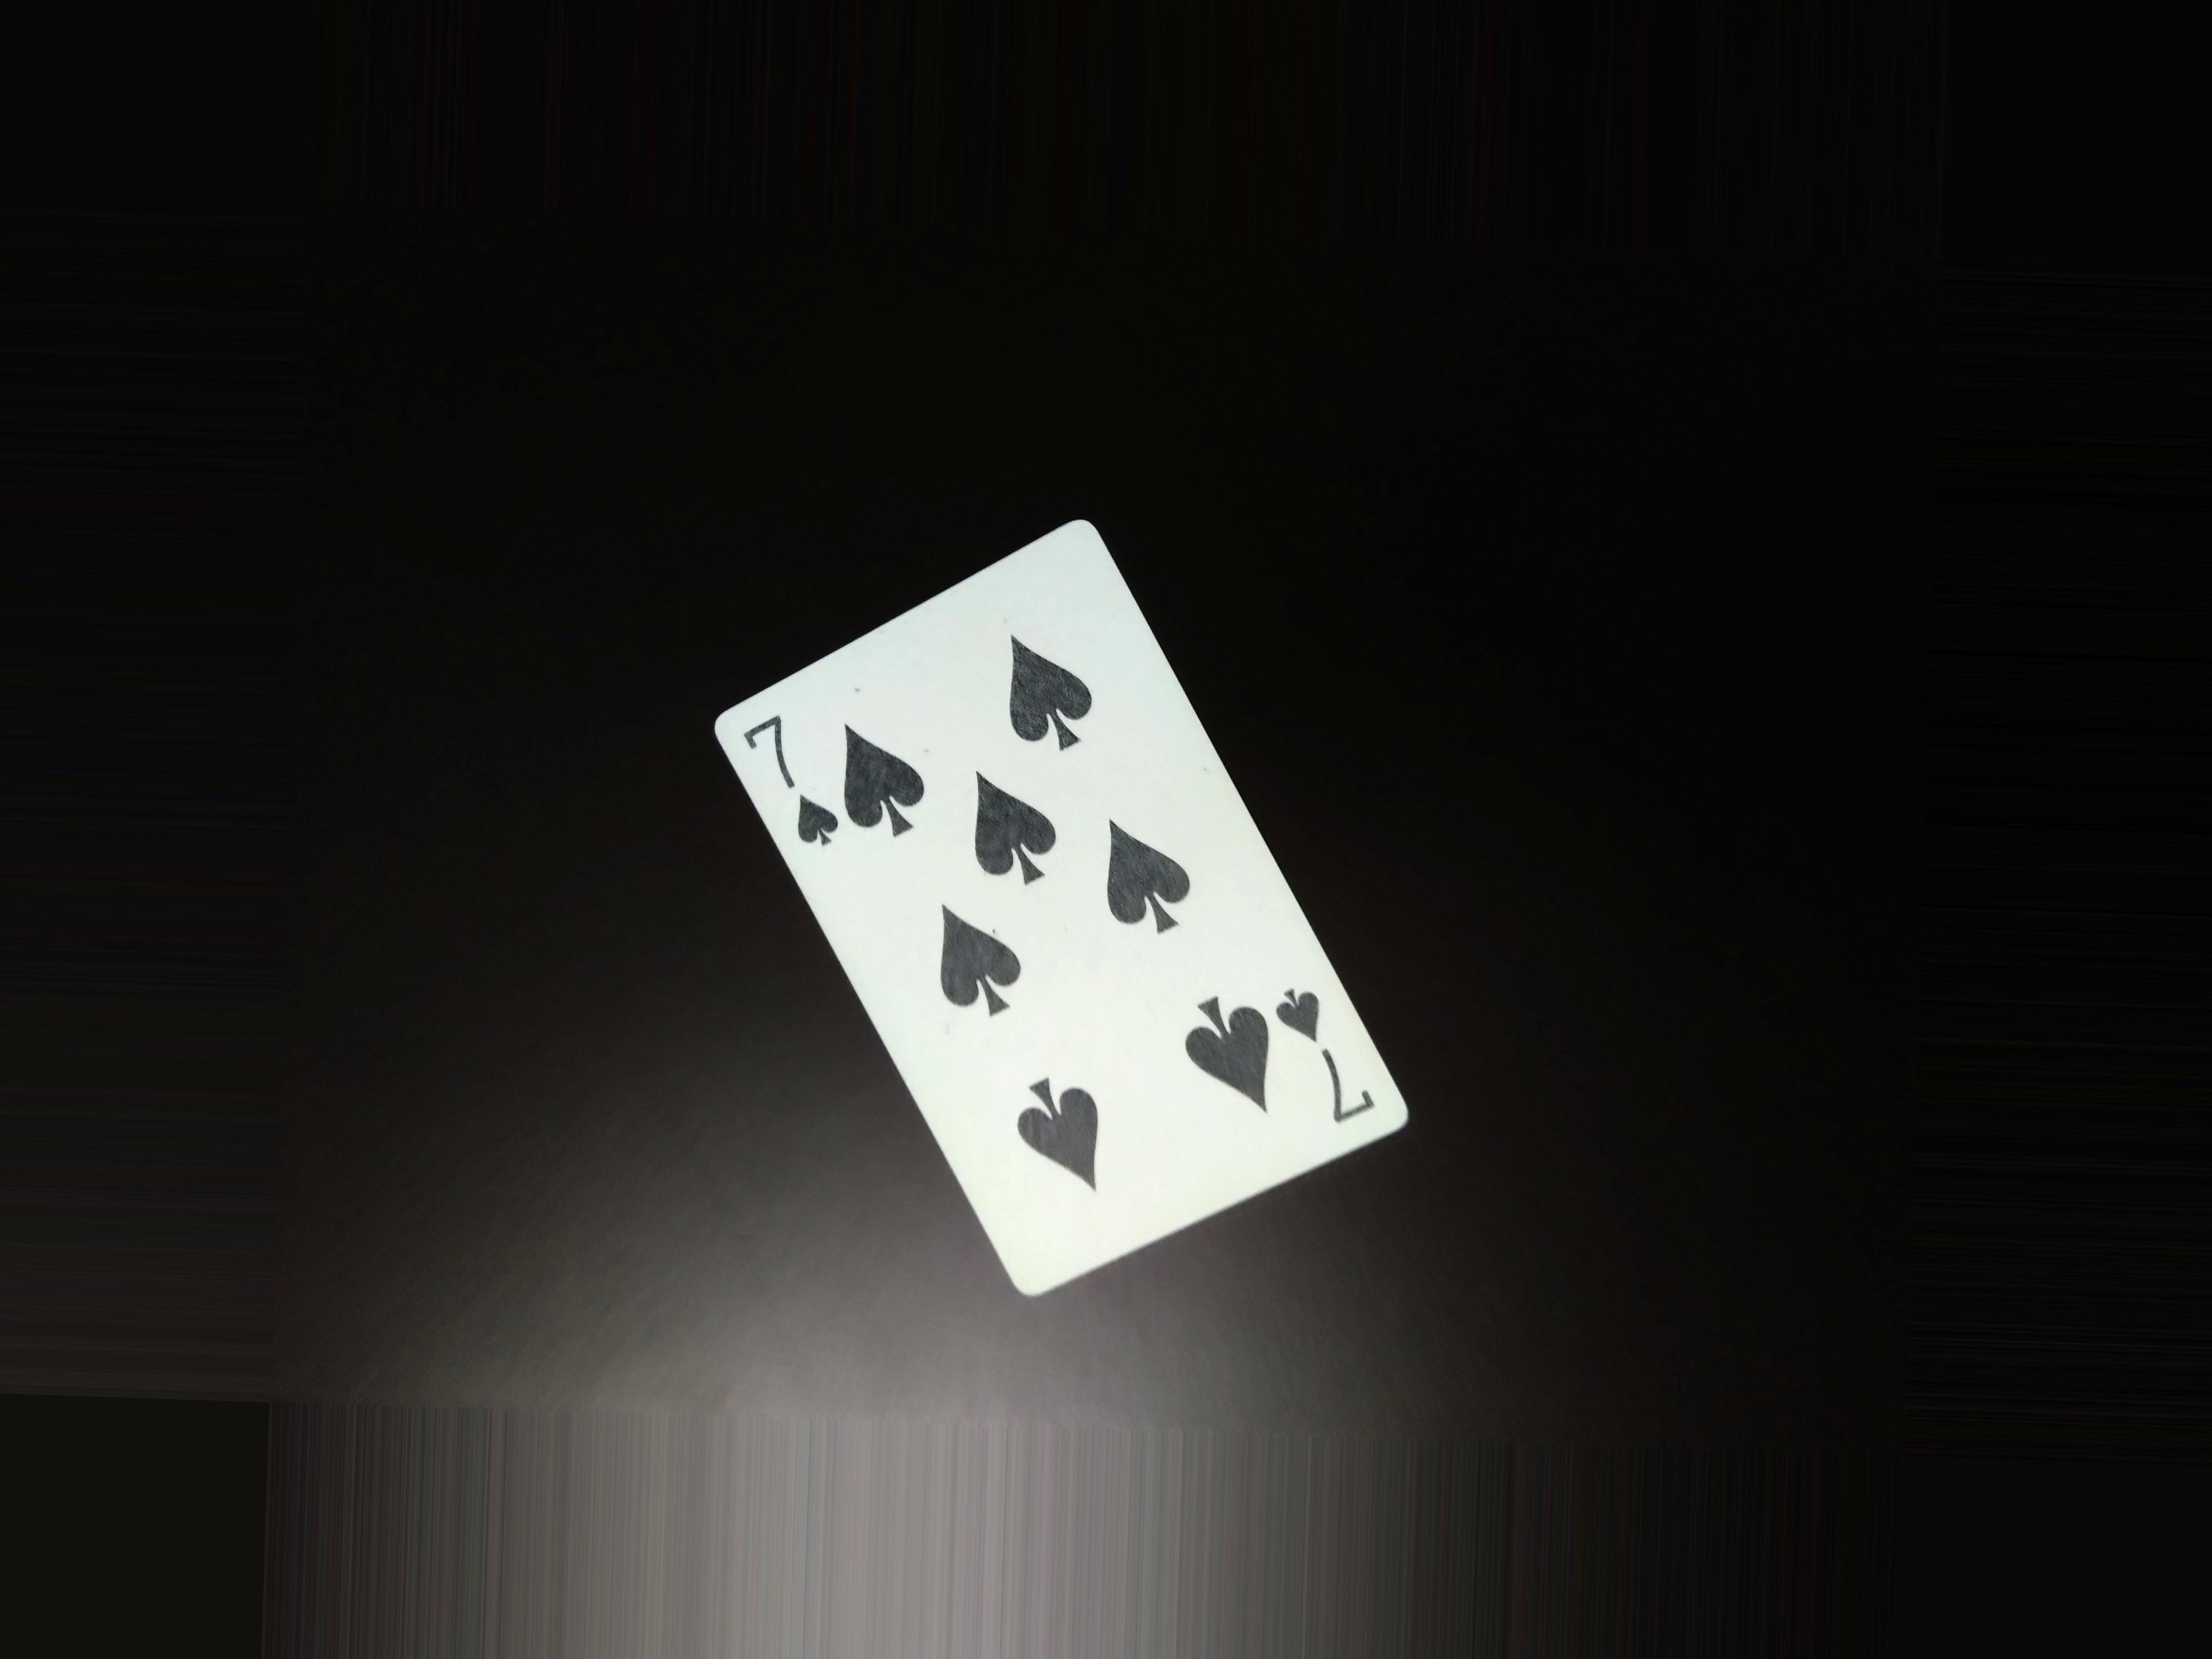7S: (738, 709, 846, 840)
